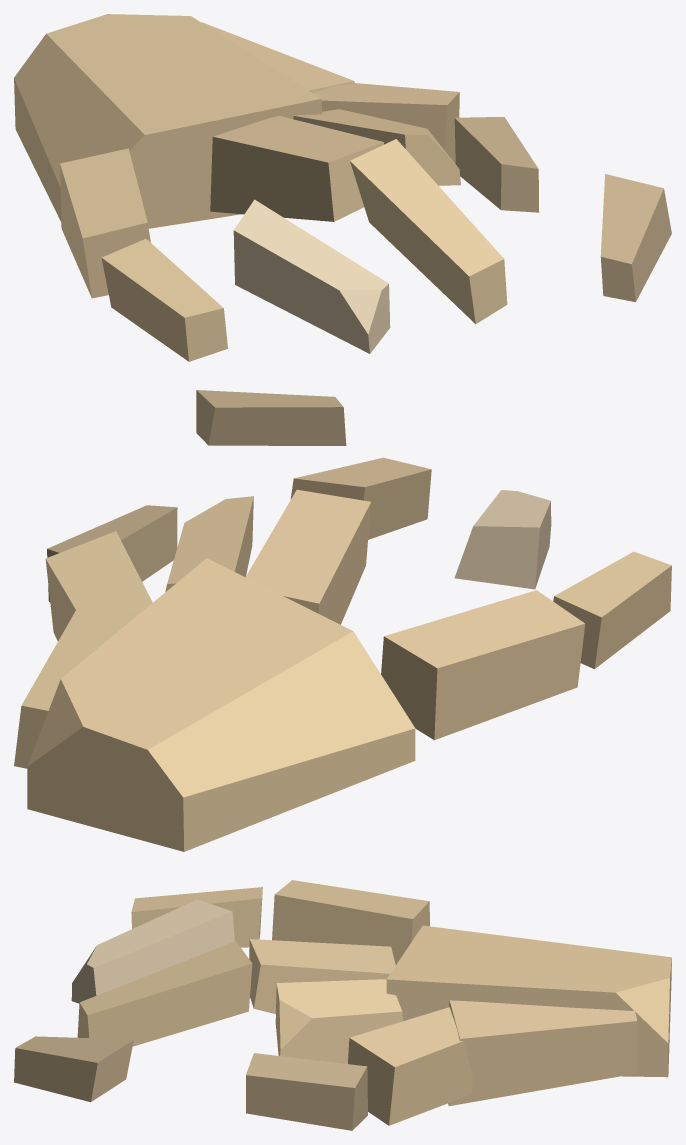
The model's file is Bone_Hand_2__0.glb.
3 renders of one model, top to bottom at view 1: azimuth 30°, elevation 25°; view 2: azimuth 150°, elevation 25°; view 3: azimuth 270°, elevation 25°, orthographic. The views are drawn at different scales.
Visible parts, largest first — view 1: Bone_Hand_2__0; view 2: Bone_Hand_2__0; view 3: Bone_Hand_2__0.
Boxes of the visible parts, <box> form: Bone_Hand_2__0: <box>14,14,671,361</box>; Bone_Hand_2__0: <box>14,390,671,851</box>; Bone_Hand_2__0: <box>14,880,671,1130</box>.
Bounding box in the file's own units: 0.1461 × 0.0391 × 0.2031.
Materials: 1 (1 with a texture image).
